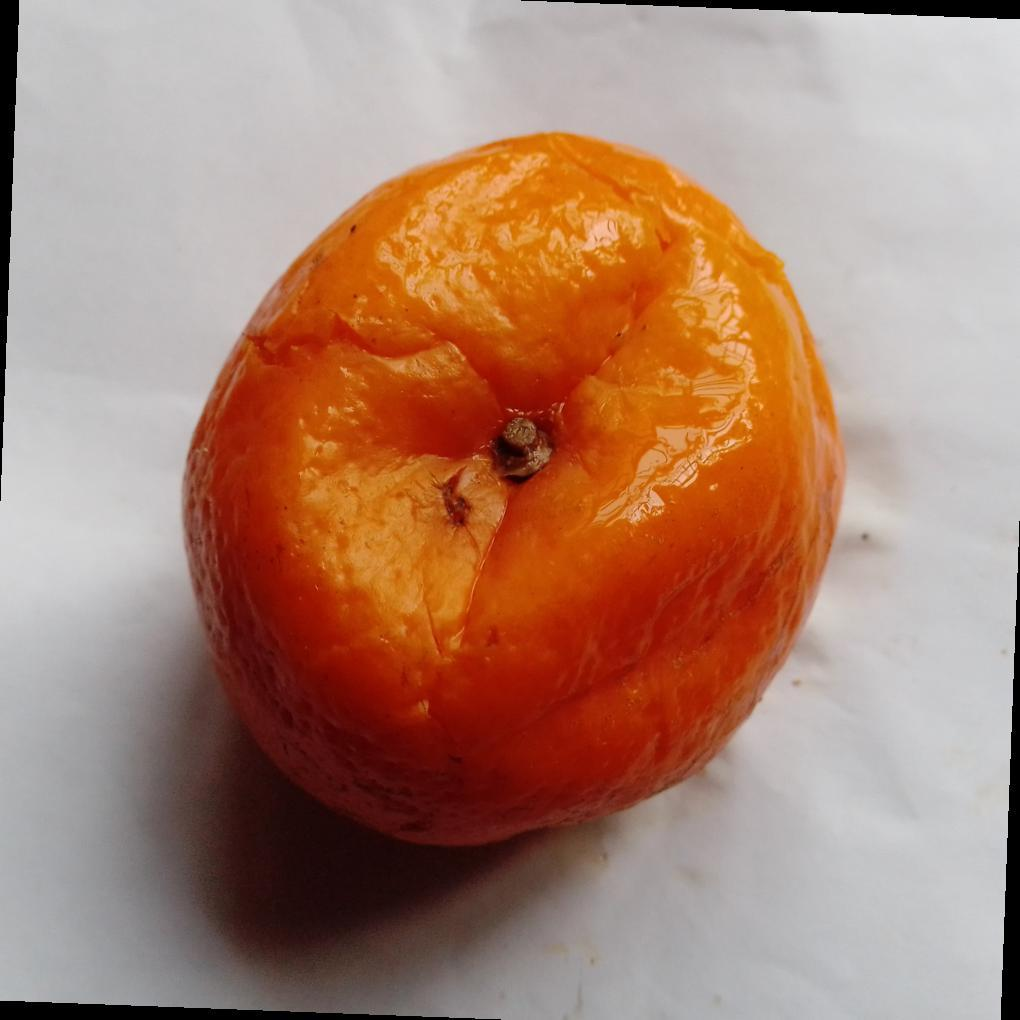FreshOrange: (180, 133, 848, 852)
